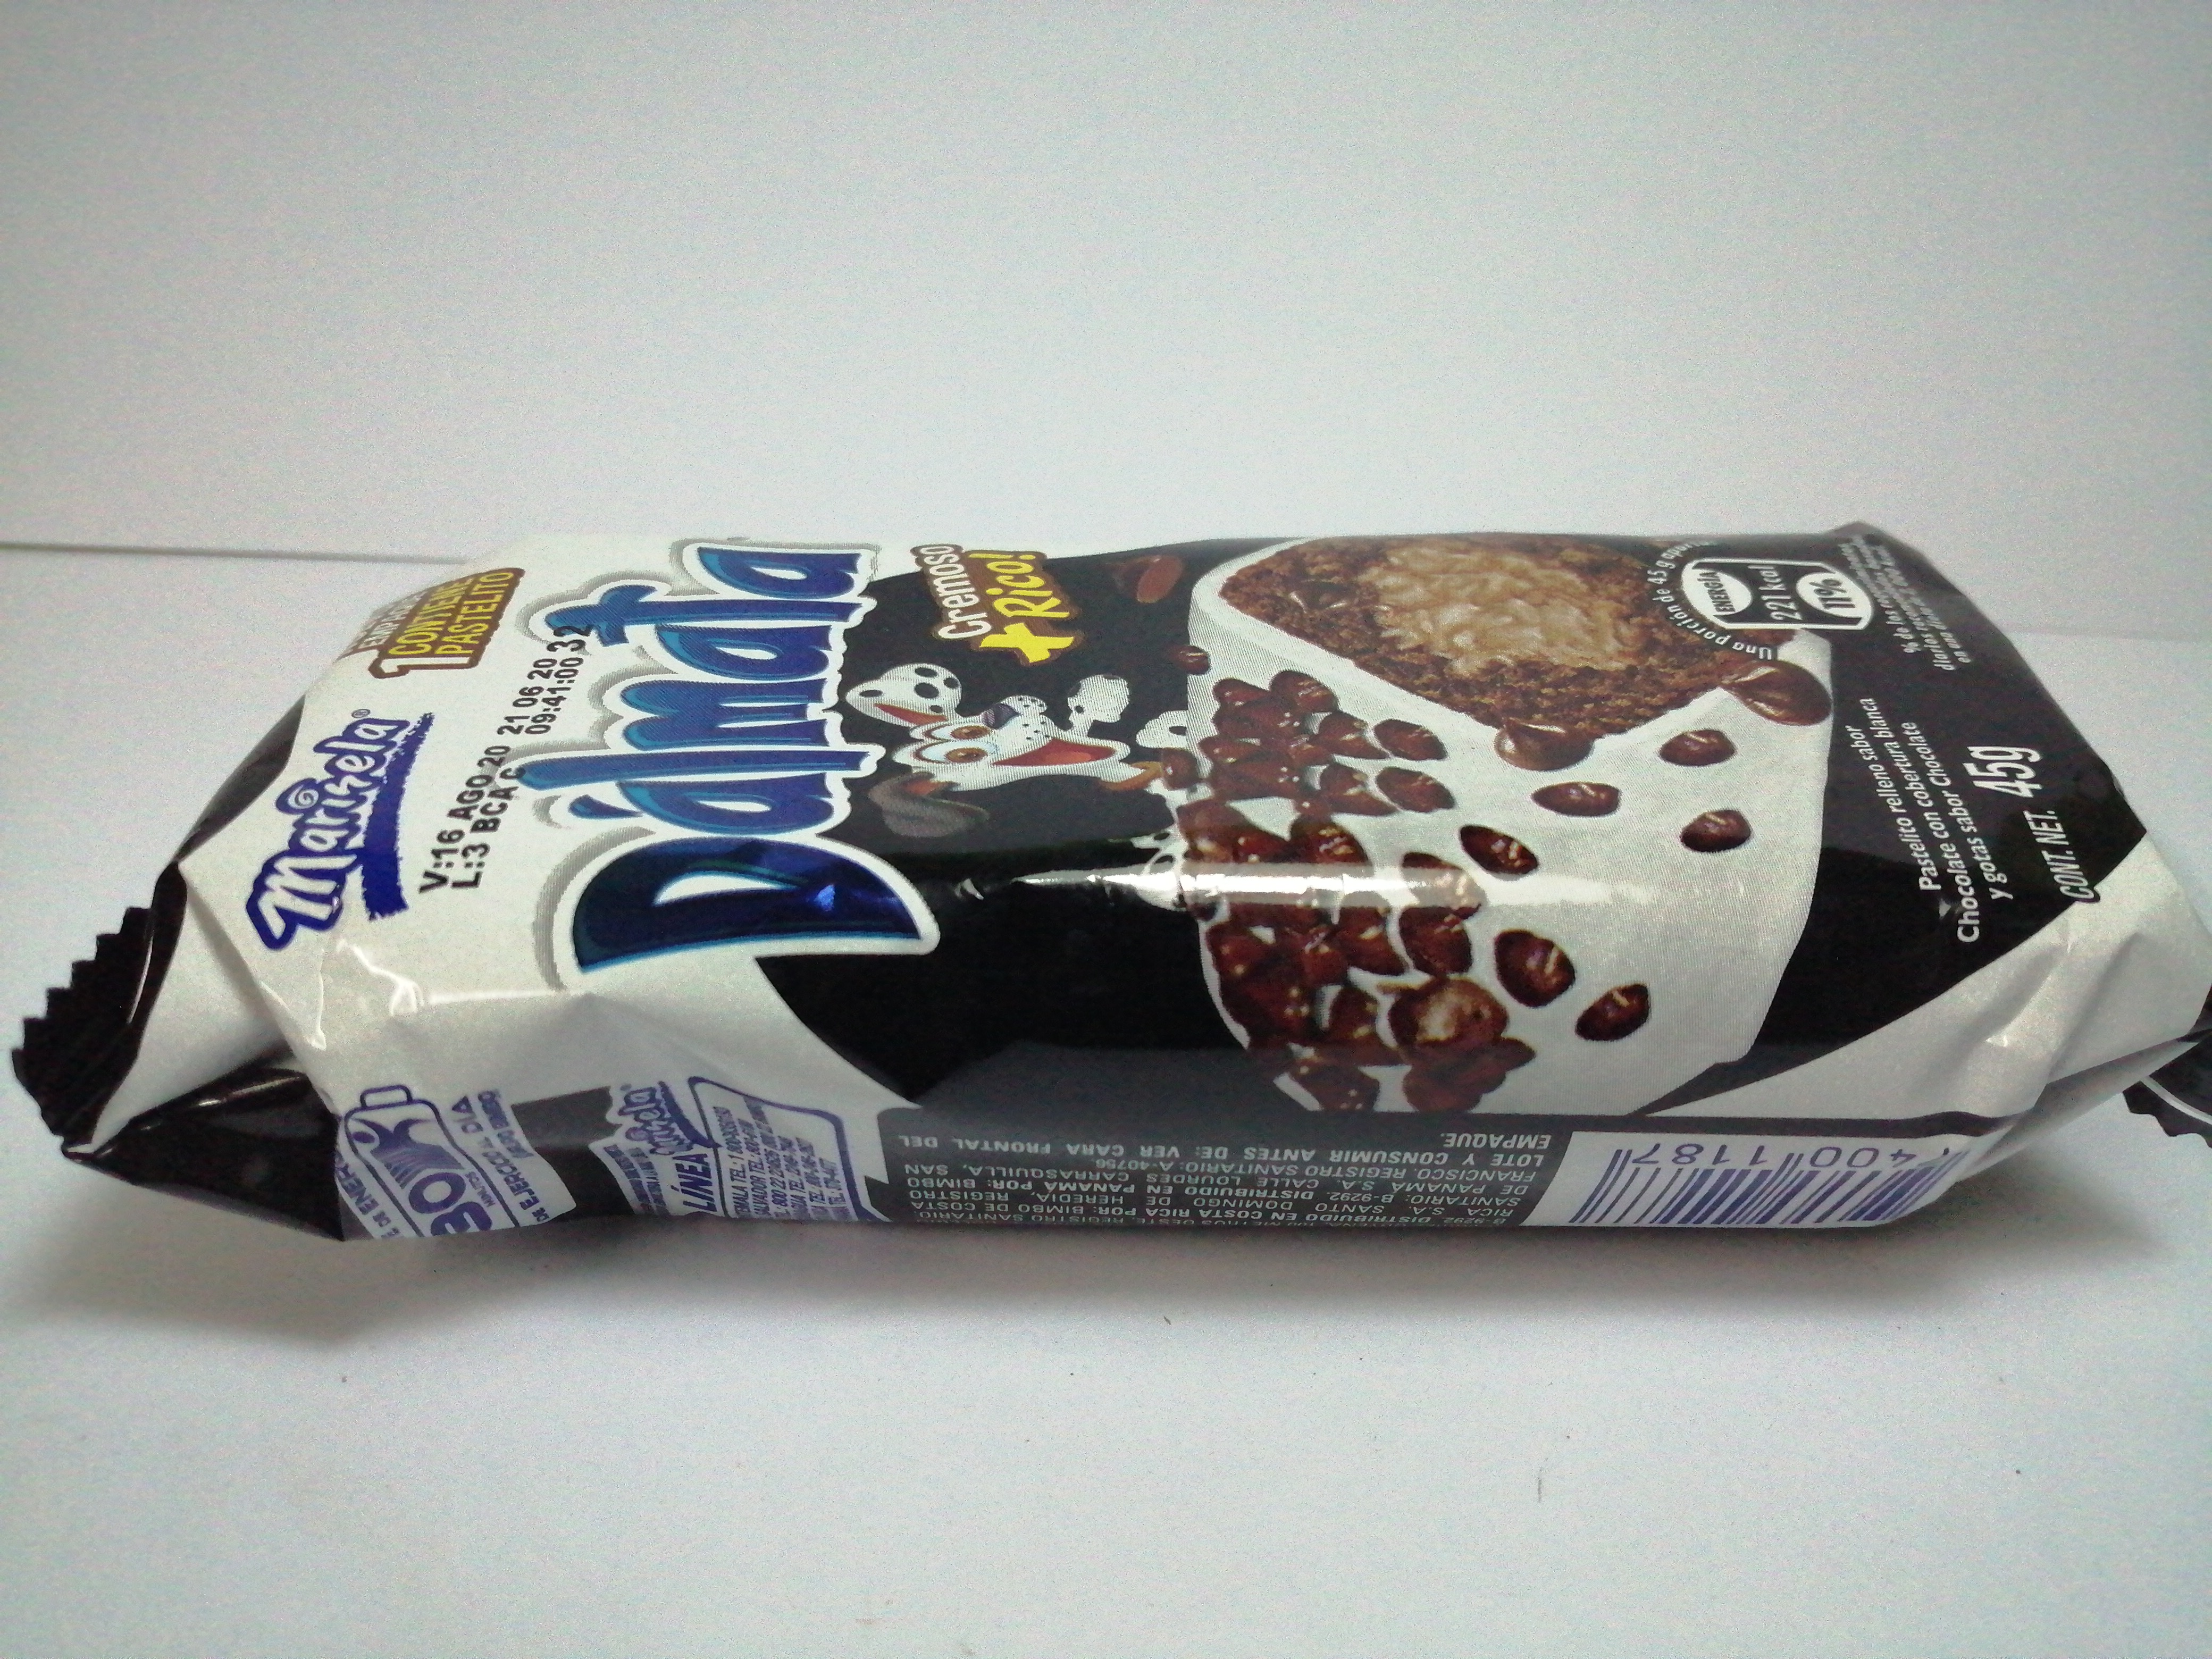dalmata: (3, 493, 2209, 1286)
